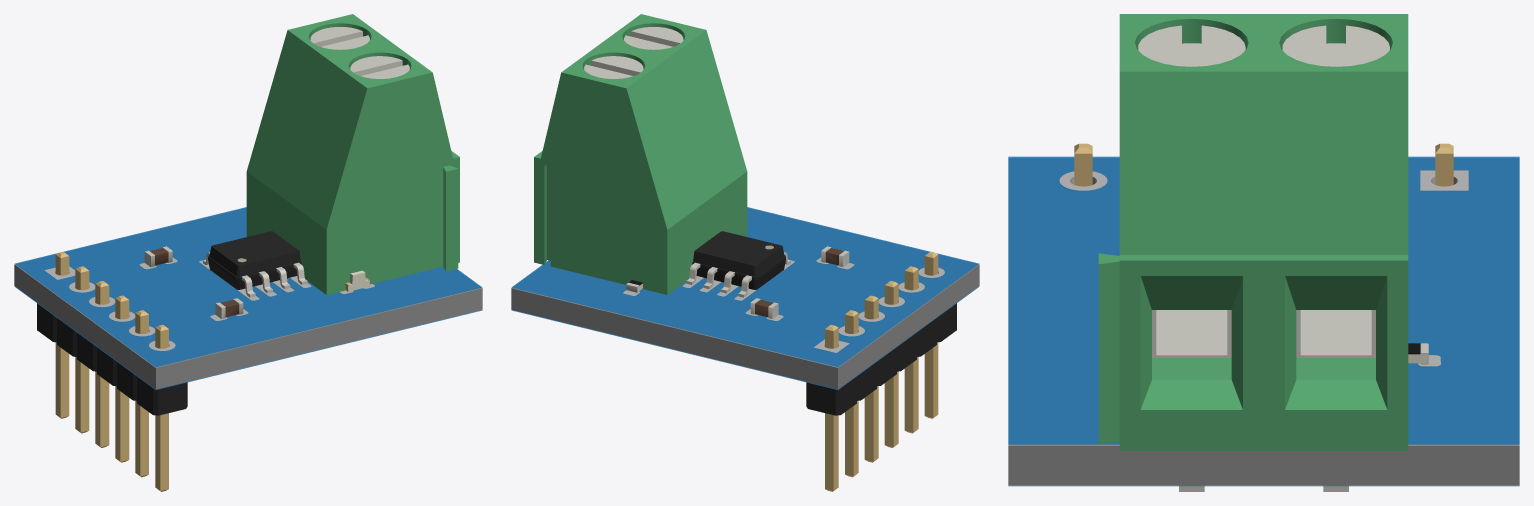
Rendered from tja1051.glb.
The picture shows the model from 3 angles, left to right: view 1: azimuth 30°, elevation 25°; view 2: azimuth 150°, elevation 25°; view 3: azimuth 270°, elevation 25°; orthographic projection. The views are drawn at different scales.
Visible parts, largest first — view 1: REF**, =>[0:1:1:11], =>[0:1:1:9], =>[0:1:1:8]; view 2: REF**, =>[0:1:1:11], =>[0:1:1:9], =>[0:1:1:8]; view 3: REF**, =>[0:1:1:11], =>[0:1:1:9], =>[0:1:1:8].
Boxes of the visible parts, left/top/right/bottom form: REF**: left=37, top=14, right=459, bottom=491; =>[0:1:1:11]: left=14, top=208, right=482, bottom=389; =>[0:1:1:9]: left=14, top=207, right=482, bottom=389; =>[0:1:1:8]: left=44, top=257, right=374, bottom=350; REF**: left=534, top=14, right=956, bottom=491; =>[0:1:1:11]: left=511, top=208, right=979, bottom=389; =>[0:1:1:9]: left=511, top=207, right=979, bottom=389; =>[0:1:1:8]: left=623, top=257, right=944, bottom=352; REF**: left=1074, top=14, right=1453, bottom=491; =>[0:1:1:11]: left=1008, top=158, right=1519, bottom=484; =>[0:1:1:9]: left=1008, top=156, right=1519, bottom=486; =>[0:1:1:8]: left=1059, top=170, right=1468, bottom=366.
Size of the model in its own units: 0.0246 by 0.024 by 0.018.
Materials: 4 (4 with a texture image).
